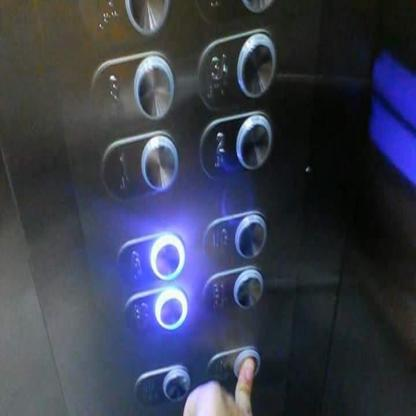1: (102, 130, 178, 203)
2: (198, 108, 273, 181)
3: (91, 47, 175, 129)
3A: (196, 27, 277, 109)
B1: (201, 266, 264, 312)
B2: (123, 285, 189, 333)
G: (113, 229, 184, 288)
LG: (201, 210, 269, 263)
close: (205, 342, 261, 387)
open: (133, 361, 190, 409)
